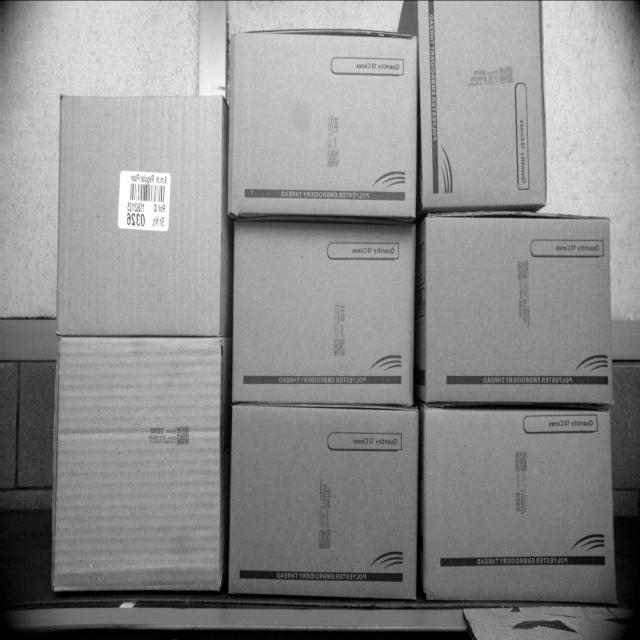cardboxes: (53, 337, 219, 593), (422, 401, 614, 612), (61, 96, 218, 335), (232, 23, 420, 221), (222, 220, 416, 411), (423, 220, 613, 408), (228, 414, 418, 598), (424, 0, 550, 215)
